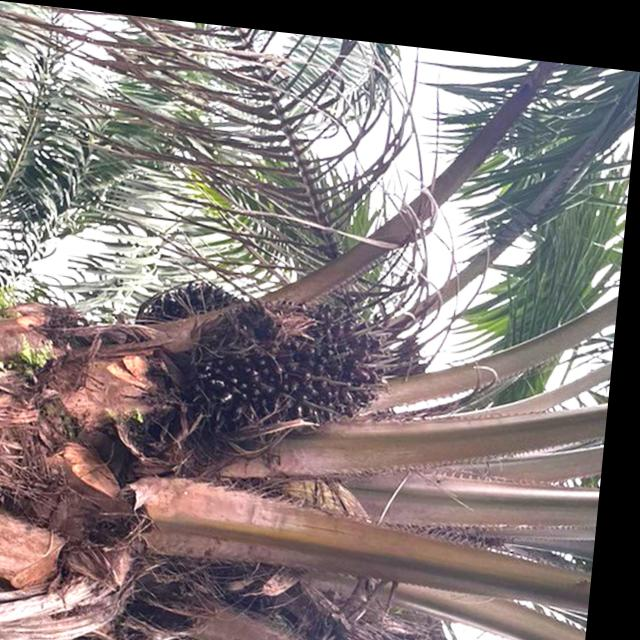ripe: (261, 282, 419, 445)
